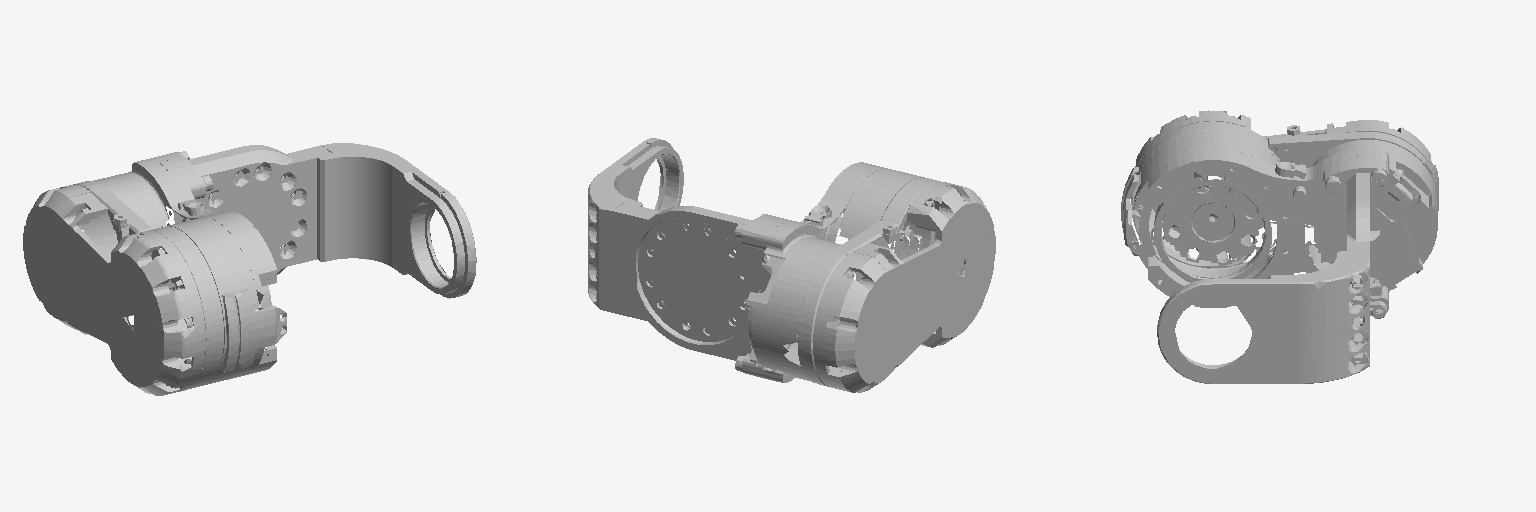
The model's file is sim_ecub_1-1_r_hip_2.obj.
The picture shows the model from 3 angles: view 1: azimuth 30°, elevation 25°; view 2: azimuth 150°, elevation 25°; view 3: azimuth 270°, elevation 25°; orthographic projection.
Size of the model in its own units: 158 by 70.23 by 136.